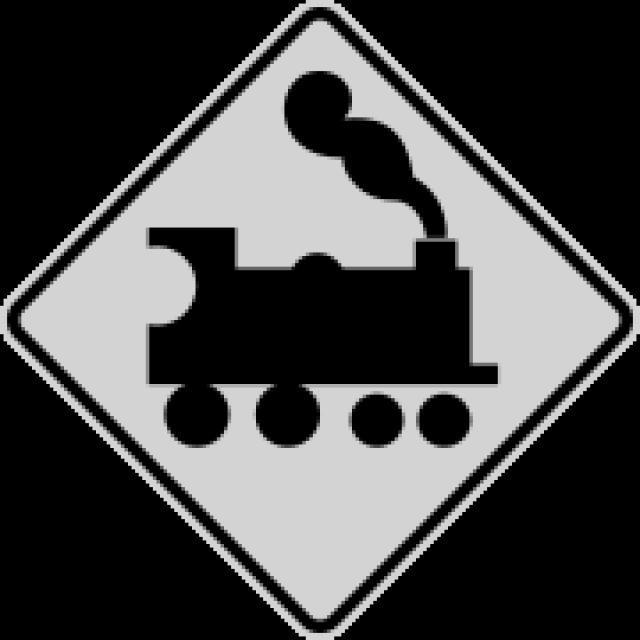unguarded level crossing: (37, 29, 614, 622)
